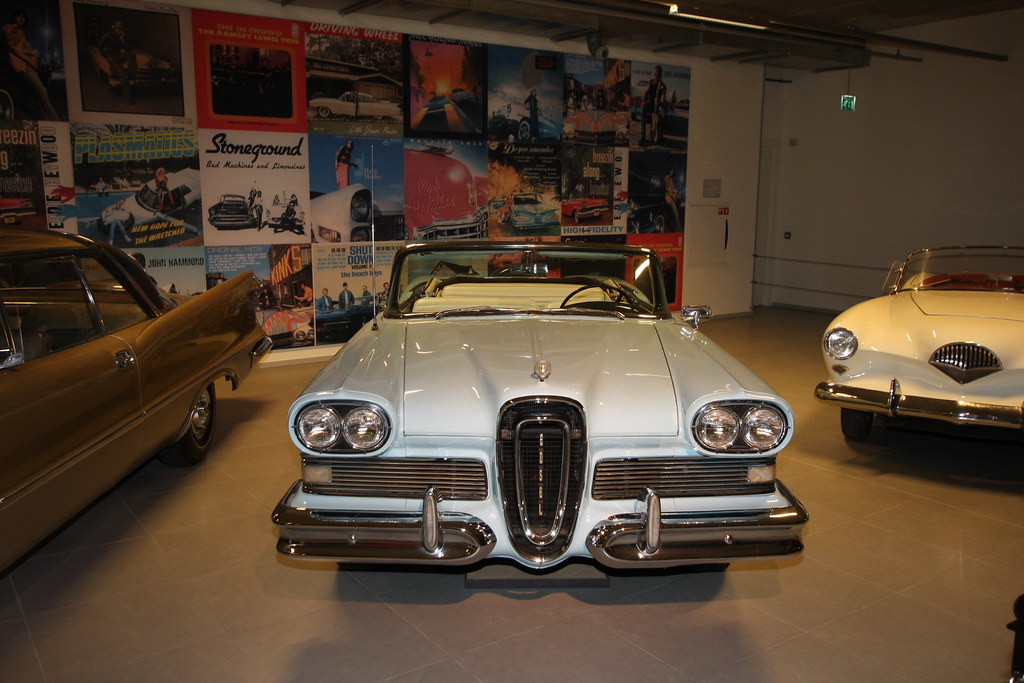car: (275, 184, 807, 665)
